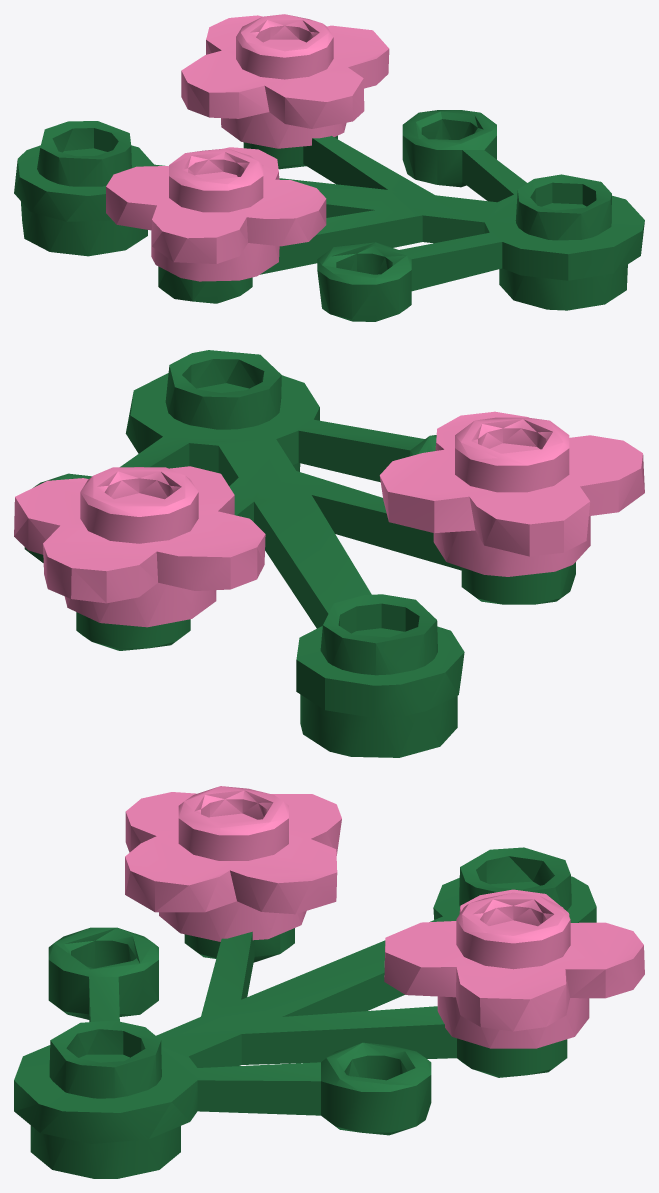
Rendered from frog_stem_a_pink.glb.
The picture shows the model from 3 angles, top to bottom: view 1: azimuth 30°, elevation 25°; view 2: azimuth 150°, elevation 25°; view 3: azimuth 270°, elevation 25°; orthographic projection. The views are drawn at different scales.
Parts seen in each view (by area): view 1: frog_stem_a_pink; view 2: frog_stem_a_pink; view 3: frog_stem_a_pink.
Boxes of the visible parts, x1,y1,x2,y2 form: frog_stem_a_pink: (14,14,644,321); frog_stem_a_pink: (14,350,644,757); frog_stem_a_pink: (14,786,644,1178).
Size of the model in its own units: 0.8873 by 0.2846 by 0.9399.
